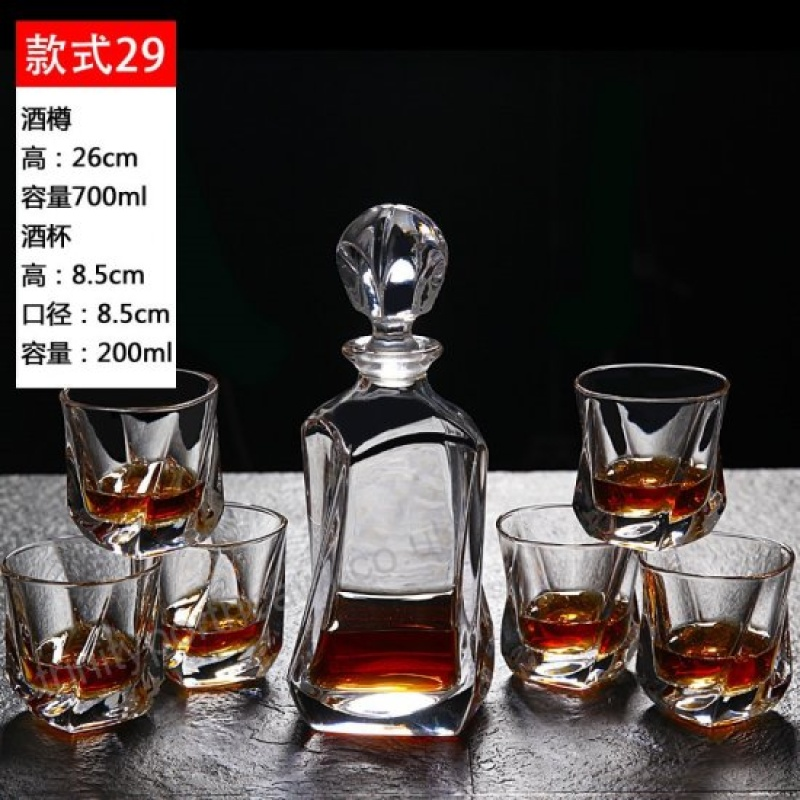whiskey: (19, 516, 172, 747), (630, 524, 792, 736), (575, 350, 741, 543), (66, 360, 228, 541), (493, 498, 642, 691), (165, 500, 294, 705)
